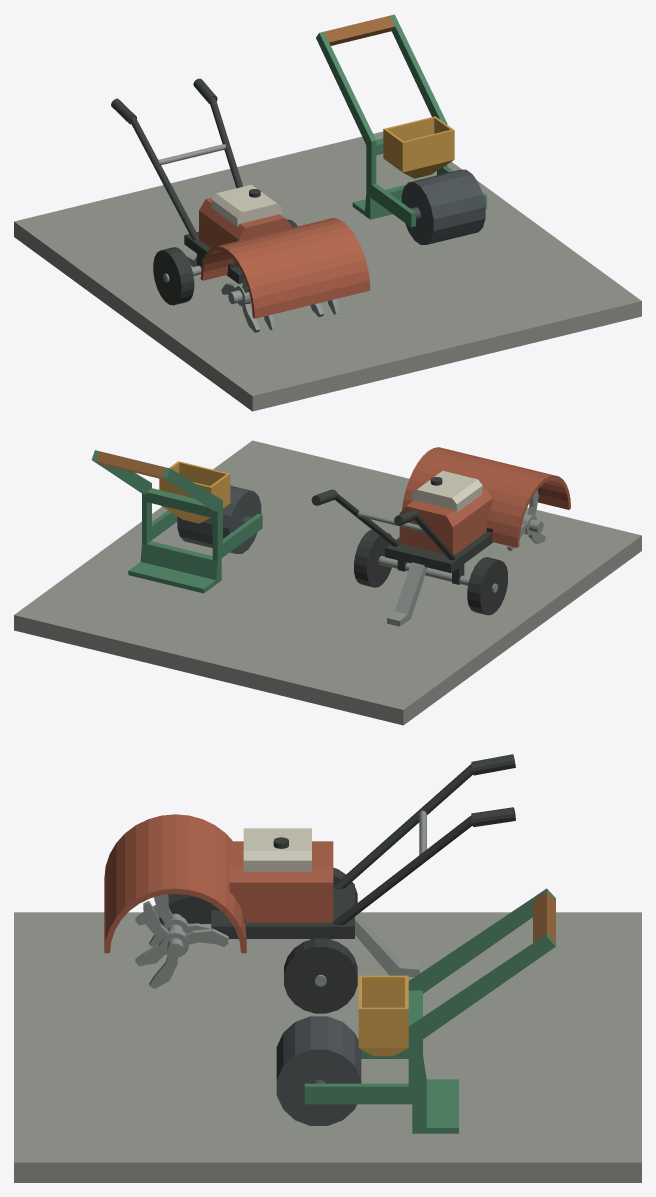
The picture shows the model from 3 angles, top to bottom: view 1: azimuth 30°, elevation 25°; view 2: azimuth 150°, elevation 25°; view 3: azimuth 270°, elevation 25°; orthographic projection. The views are drawn at different scales.
Parts seen in each view (by area): view 1: SceneOnly_ContinuousFloor, tiller__WholeSemiCylindricalOpenBottomRotorHood, seeder__WideDrumWithIntegralAxialHubs, seeder__ContinuousOpenSeedHopper, seeder__LeftContinuousRisingFrame, tiller__WholeChamferedLowMotorEnclosure, tiller__WholeFiniteSoleTransportWheel0, tiller__WholeRoundedRectangularTopTank, seeder__RightContinuousRisingFrame, seeder__WoodenCrossGrip, tiller__WholeLongRisingSeparateHandle0, tiller__WholeLongRisingSeparateHandle1 (+1 smaller); view 2: SceneOnly_ContinuousFloor, tiller__WholeSemiCylindricalOpenBottomRotorHood, tiller__WholeChamferedLowMotorEnclosure, seeder__CompleteParkingSupport, seeder__WideDrumWithIntegralAxialHubs, seeder__LeftContinuousRisingFrame, tiller__WholeFiniteSoleTransportWheel0, seeder__ContinuousOpenSeedHopper, tiller__WholeRoundedRectangularTopTank, tiller__WholeLowRearChassisTray, tiller__WholeFiniteSoleTransportWheel1, seeder__RightContinuousRisingFrame (+6 smaller); view 3: SceneOnly_ContinuousFloor, tiller__WholeSemiCylindricalOpenBottomRotorHood, seeder__WideDrumWithIntegralAxialHubs, seeder__RightContinuousRisingFrame, tiller__WholeChamferedLowMotorEnclosure, tiller__WholeFiniteSoleTransportWheel1, seeder__ContinuousOpenSeedHopper, seeder__LeftContinuousRisingFrame, tiller__WholeLowRearChassisTray, tiller__WholeRoundedRectangularTopTank, seeder__CompleteParkingSupport, tiller__WholeLongRisingSeparateHandle0 (+6 smaller).
Boxes of the visible parts, x1=… form: SceneOnly_ContinuousFloor: x1=14, y1=131, x2=641, y2=411; tiller__WholeSemiCylindricalOpenBottomRotorHood: x1=200, y1=218, x2=370, y2=318; seeder__WideDrumWithIntegralAxialHubs: x1=401, y1=169, x2=485, y2=244; seeder__ContinuousOpenSeedHopper: x1=383, y1=116, x2=454, y2=178; seeder__LeftContinuousRisingFrame: x1=316, y1=31, x2=415, y2=227; tiller__WholeChamferedLowMotorEnclosure: x1=199, y1=197, x2=291, y2=268; tiller__WholeFiniteSoleTransportWheel0: x1=153, y1=247, x2=194, y2=305; tiller__WholeRoundedRectangularTopTank: x1=211, y1=184, x2=281, y2=226; seeder__RightContinuousRisingFrame: x1=390, y1=14, x2=486, y2=208; seeder__WoodenCrossGrip: x1=324, y1=15, x2=394, y2=45; tiller__WholeLongRisingSeparateHandle0: x1=130, y1=114, x2=199, y2=240; tiller__WholeLongRisingSeparateHandle1: x1=209, y1=94, x2=242, y2=188; SceneOnly_ContinuousFloor: x1=14, y1=440, x2=641, y2=725; tiller__WholeSemiCylindricalOpenBottomRotorHood: x1=402, y1=447, x2=570, y2=547; tiller__WholeChamferedLowMotorEnclosure: x1=399, y1=486, x2=492, y2=554; seeder__CompleteParkingSupport: x1=128, y1=541, x2=221, y2=593; seeder__WideDrumWithIntegralAxialHubs: x1=177, y1=485, x2=261, y2=553; seeder__LeftContinuousRisingFrame: x1=162, y1=467, x2=262, y2=561; tiller__WholeFiniteSoleTransportWheel0: x1=467, y1=557, x2=507, y2=615; seeder__ContinuousOpenSeedHopper: x1=159, y1=461, x2=230, y2=523; tiller__WholeRoundedRectangularTopTank: x1=412, y1=470, x2=482, y2=512; tiller__WholeLowRearChassisTray: x1=385, y1=532, x2=492, y2=572; tiller__WholeFiniteSoleTransportWheel1: x1=354, y1=530, x2=391, y2=587; seeder__RightContinuousRisingFrame: x1=91, y1=450, x2=177, y2=543; SceneOnly_ContinuousFloor: x1=14, y1=912, x2=641, y2=1182; tiller__WholeSemiCylindricalOpenBottomRotorHood: x1=104, y1=814, x2=246, y2=953; seeder__WideDrumWithIntegralAxialHubs: x1=276, y1=1016, x2=361, y2=1125; seeder__RightContinuousRisingFrame: x1=304, y1=934, x2=555, y2=1104; tiller__WholeChamferedLowMotorEnclosure: x1=229, y1=841, x2=333, y2=922; tiller__WholeFiniteSoleTransportWheel1: x1=284, y1=938, x2=357, y2=1013; seeder__ContinuousOpenSeedHopper: x1=358, y1=975, x2=408, y2=1056; seeder__LeftContinuousRisingFrame: x1=357, y1=888, x2=555, y2=1058; tiller__WholeLowRearChassisTray: x1=211, y1=884, x2=354, y2=938; tiller__WholeRoundedRectangularTopTank: x1=243, y1=828, x2=311, y2=871; seeder__CompleteParkingSupport: x1=412, y1=1056, x2=458, y2=1133; tiller__WholeLongRisingSeparateHandle0: x1=333, y1=762, x2=474, y2=889.
Bounding box in the file's own units: 3.3 × 1.34 × 3.5.
